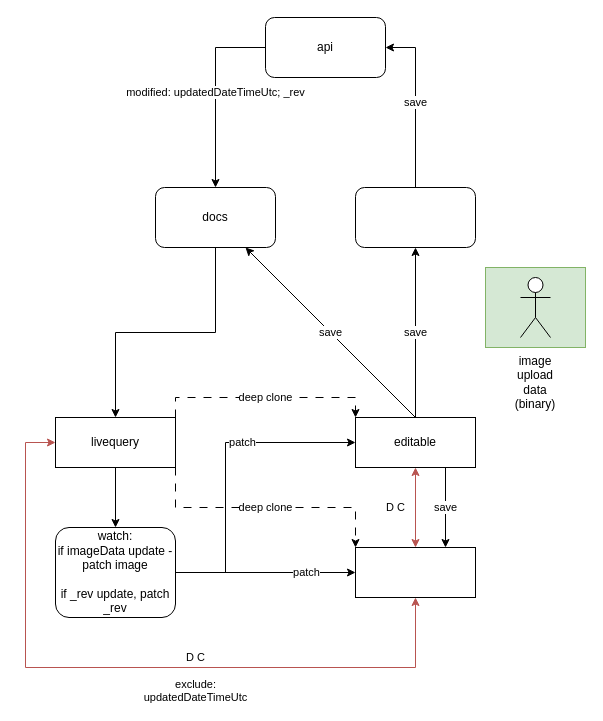
Some shapes in this 603 by 721 pixel diagram are drawn without their labels. Here are the shapes that lost their labels. From the top down, the centre of each, then its label:
At (x=415, y=217): "local changes".
At (x=415, y=572): "orig".
